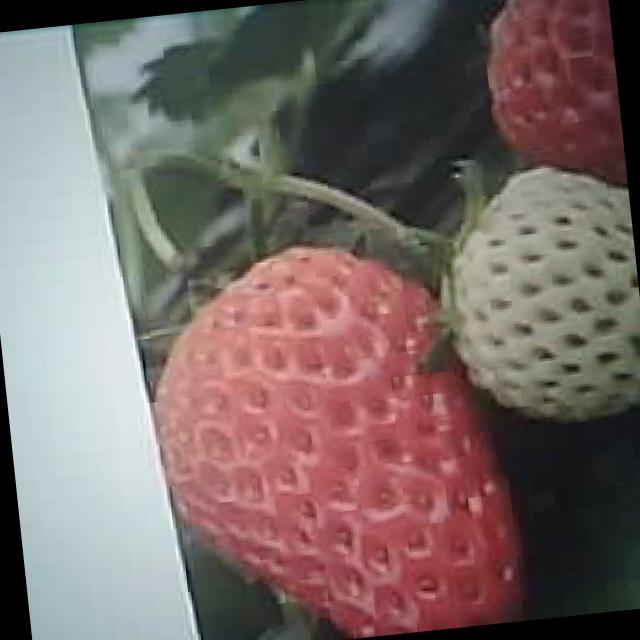strawberry: (139, 230, 525, 640)
